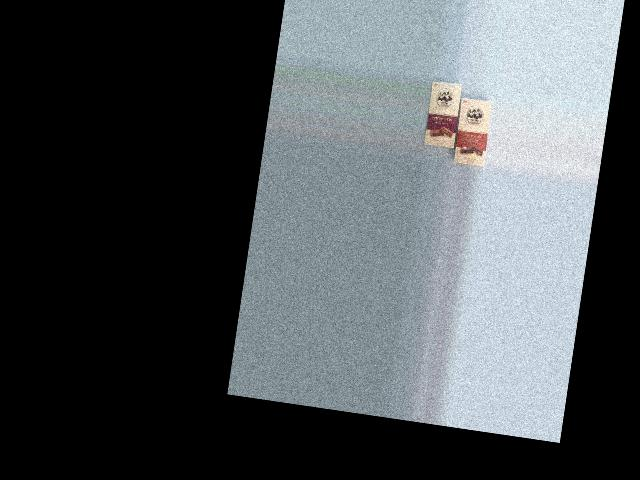chocolate: (445, 93, 495, 168)
